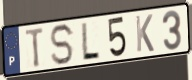3: (161, 9, 183, 52)
5: (107, 15, 127, 58)
K: (134, 13, 155, 54)
L: (80, 21, 101, 61)
S: (49, 22, 76, 67)
T: (24, 26, 46, 70)
